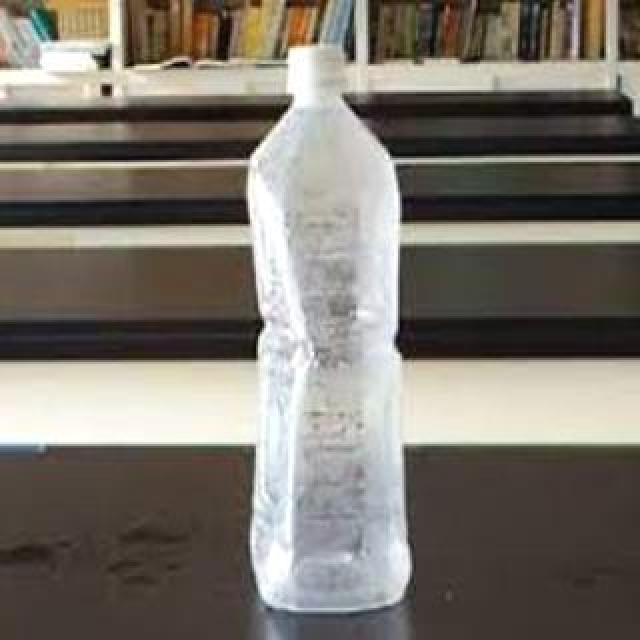Pet_Bottle: (236, 39, 408, 621)
